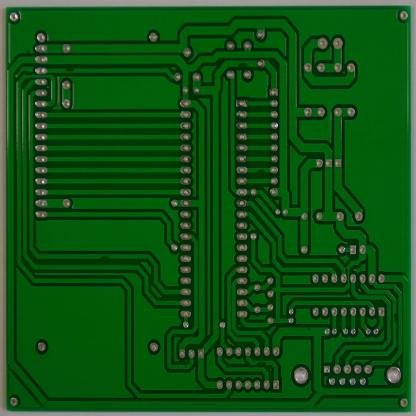mouse_bite: (234, 57, 251, 70), (96, 252, 112, 262), (253, 165, 268, 175), (63, 65, 76, 74), (255, 359, 268, 367), (392, 311, 398, 323)
